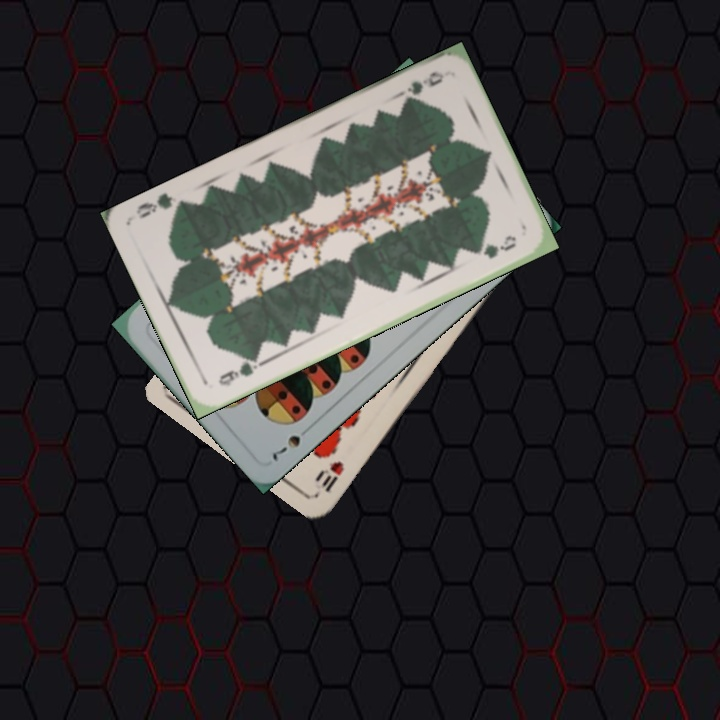G9: (398, 67, 447, 107), (214, 352, 265, 389)
H10: (313, 457, 347, 495)
S7: (268, 421, 315, 465)
